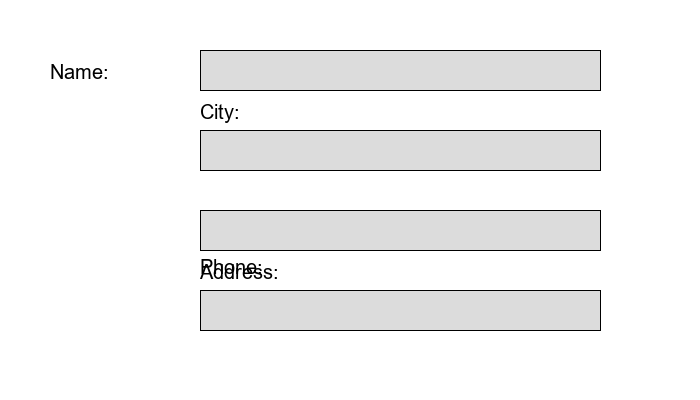Label: (200, 260, 274, 275), (200, 255, 257, 270), (50, 60, 103, 75), (200, 100, 234, 119)
Textbox: (200, 50, 600, 90), (200, 130, 600, 170), (200, 210, 600, 250), (200, 290, 600, 330)
